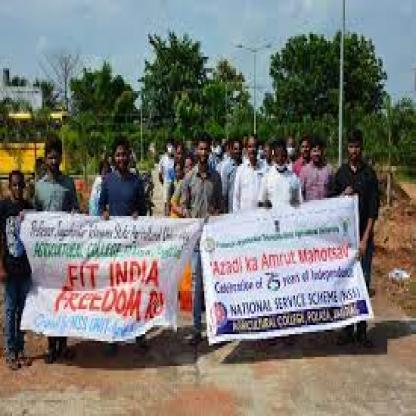BANNER: (6, 195, 372, 361)
